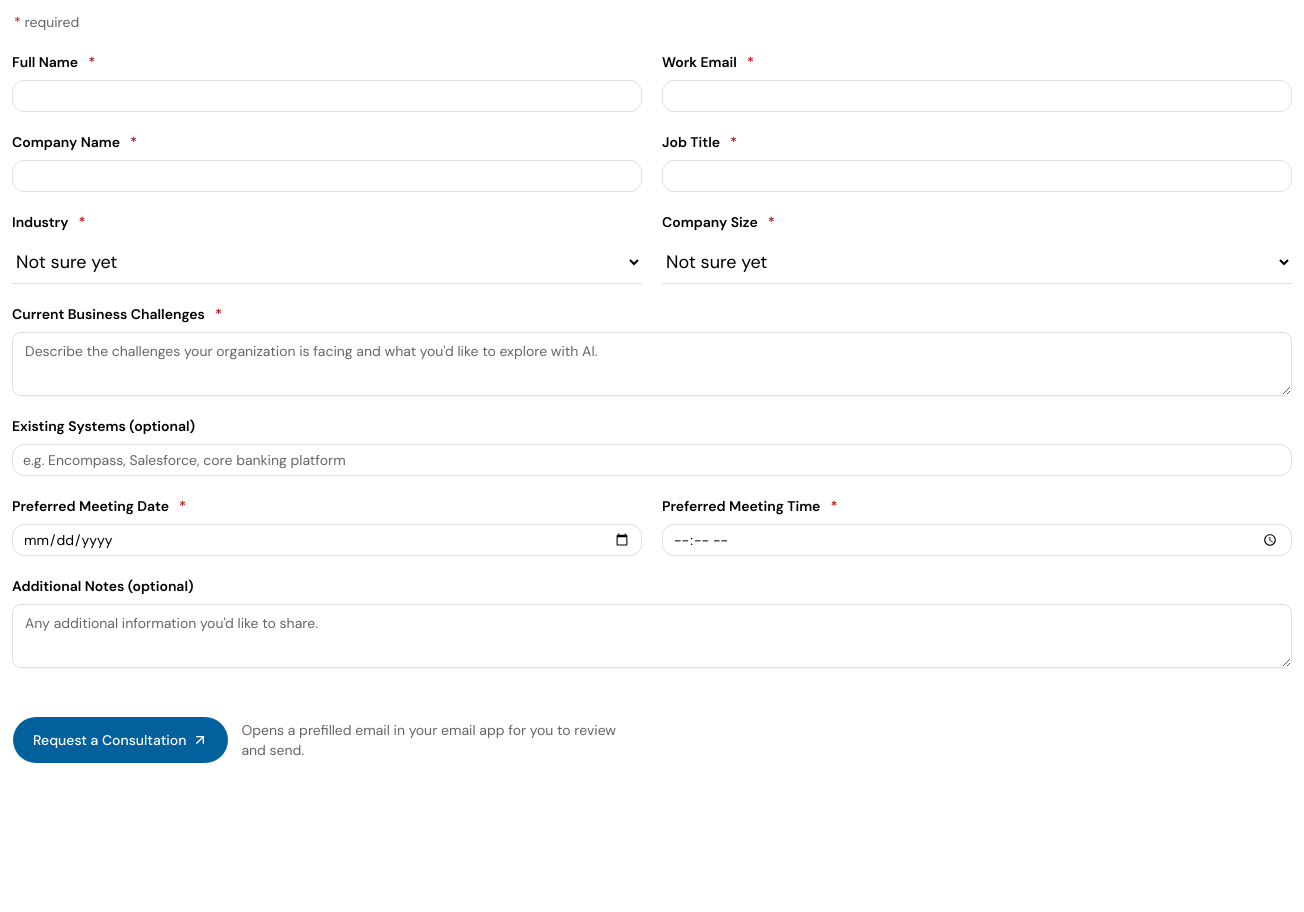
Scenario: ConsultationForm › focuses the first invalid field and announces a single summary
Click the button "Request a Consultation" at (121, 740), box [12,716,229,764]
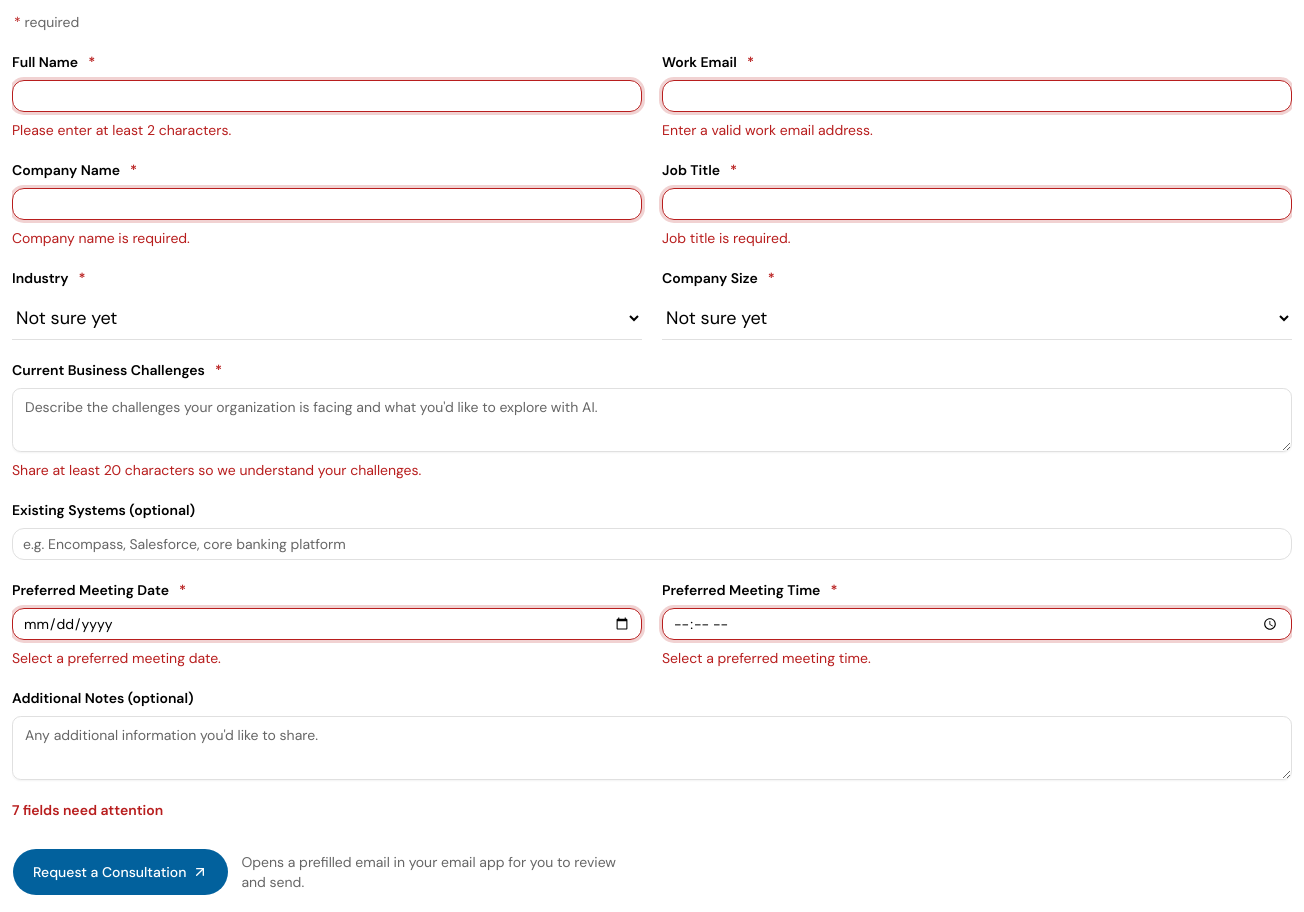
Expected: the text "7 fields need attention" is shown, [12,801,163,819]
